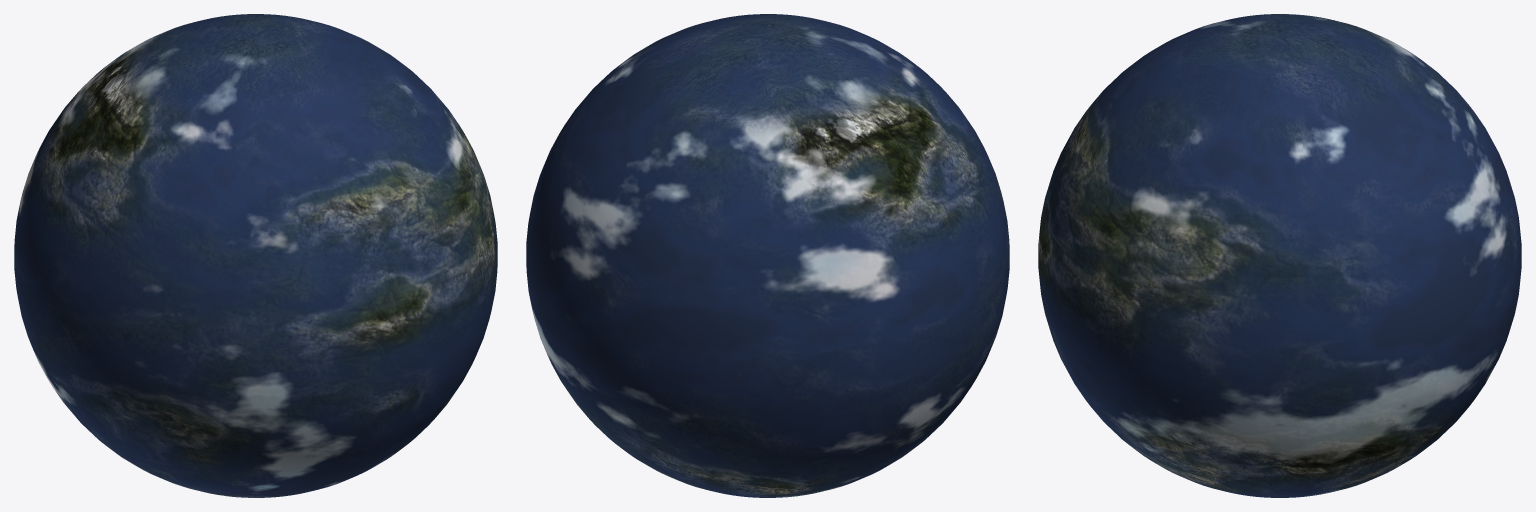
The model's file is planet2.fbx.
3 views of the same model, side by side, from view 1: azimuth 30°, elevation 25°; view 2: azimuth 150°, elevation 25°; view 3: azimuth 270°, elevation 25° (orthographic).
Visible parts, largest first — view 1: planet; view 2: planet; view 3: planet.
Part boxes in pixels (x1,y1,x2,y2): planet: (14,14,497,497); planet: (526,14,1009,497); planet: (1038,14,1521,497).
Size of the model in its own units: 99.8 by 100 by 99.9.
Materials: 1 (1 with a texture image).
